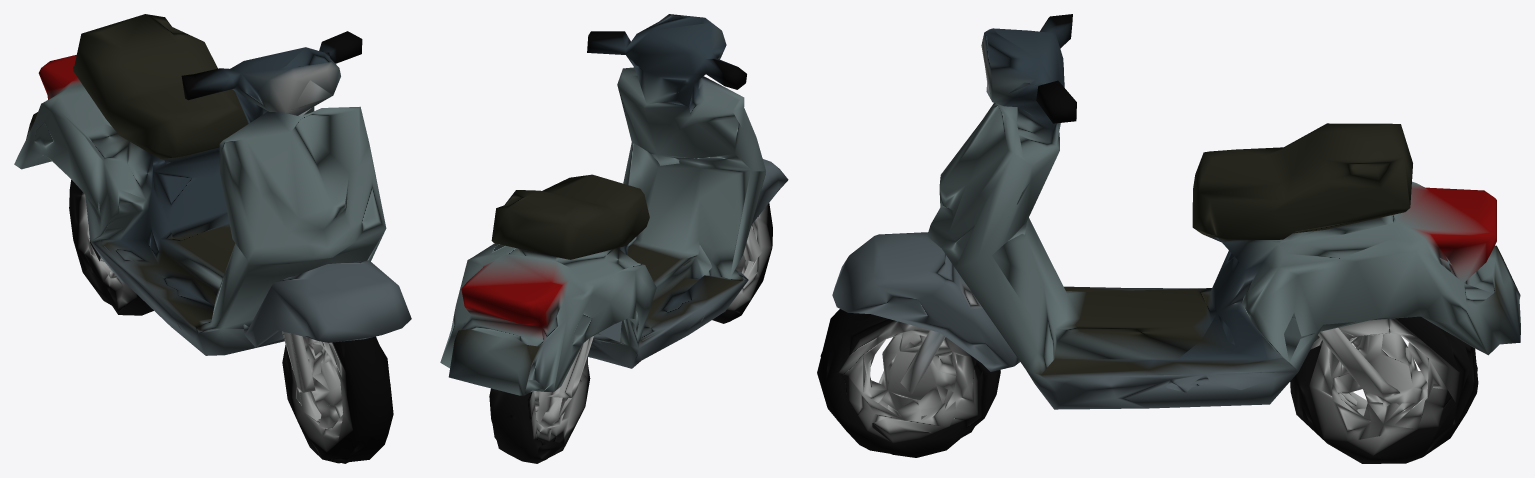
File: gen3d-scooter-lod0.glb
The picture shows the model from 3 angles, left to right: view 1: azimuth 30°, elevation 25°; view 2: azimuth 150°, elevation 25°; view 3: azimuth 270°, elevation 25°; orthographic projection. The views are drawn at different scales.
Parts seen in each view (by area): view 1: part_0; view 2: part_0; view 3: part_0.
Boxes of the visible parts, x1=… form: part_0: x1=14, y1=14, x2=411, y2=463; part_0: x1=440, y1=14, x2=788, y2=463; part_0: x1=817, y1=14, x2=1520, y2=463.
Bounding box in the file's own units: 0.4894 × 0.9958 × 1.51.
